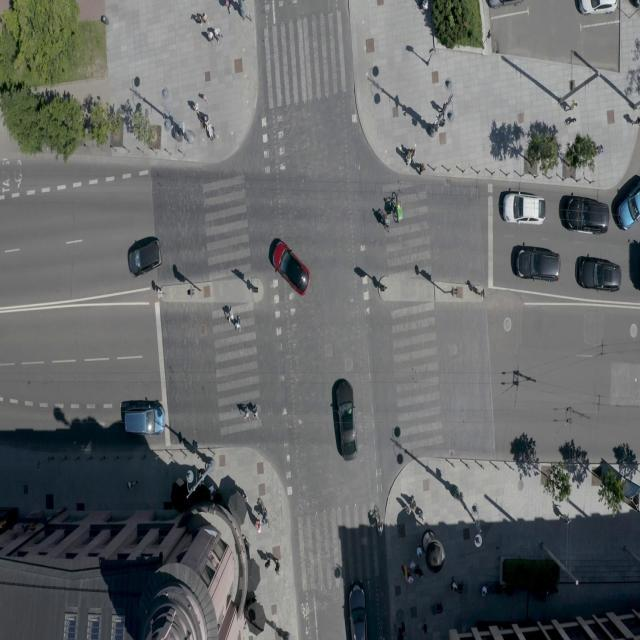Car: (265, 230, 318, 306), (114, 222, 170, 283), (328, 374, 364, 468), (560, 184, 612, 240), (509, 235, 565, 285), (493, 184, 548, 230), (118, 399, 171, 445), (570, 250, 622, 294), (372, 176, 406, 240), (342, 571, 372, 640), (615, 178, 640, 234), (570, 0, 621, 26)
